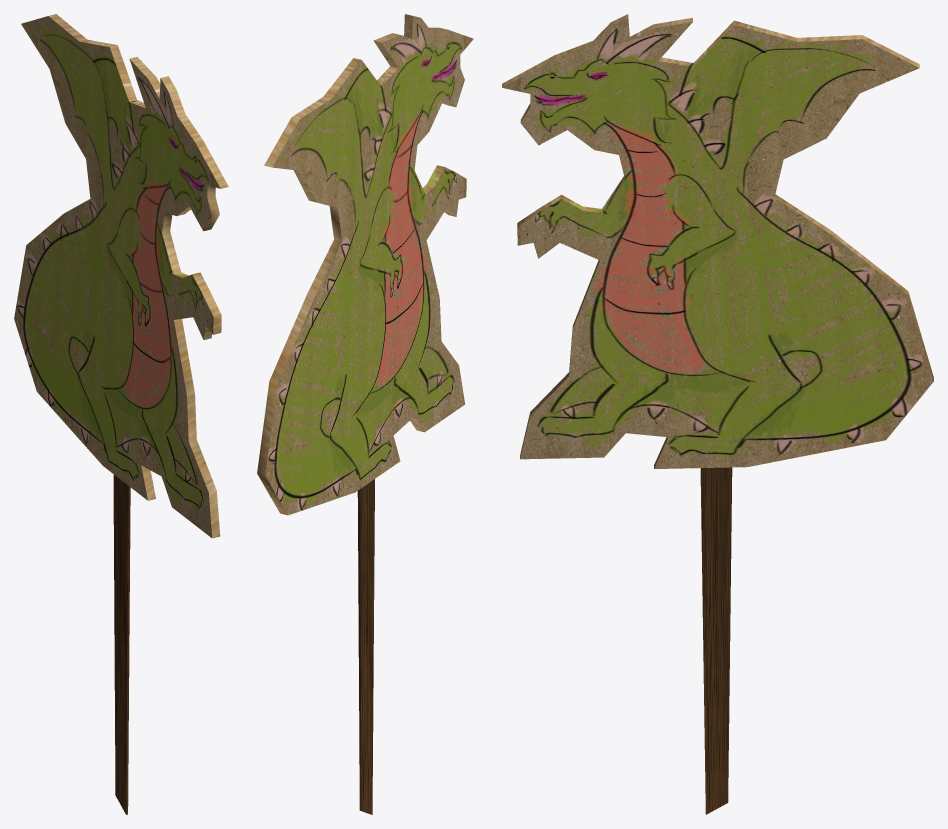
The model's file is Lighter green dragon.fbx.
The picture shows the model from 3 angles, left to right: view 1: azimuth 30°, elevation 25°; view 2: azimuth 150°, elevation 25°; view 3: azimuth 270°, elevation 25°; orthographic projection. The views are drawn at different scales.
Parts seen in each view (by area): view 1: dragonding, stokje; view 2: dragonding, stokje; view 3: dragonding, stokje.
Part boxes in pixels (x1,y1,x2,y2): dragonding: (14,14,228,538); stokje: (113,474,130,814); dragonding: (257,14,473,515); stokje: (357,479,374,814); dragonding: (502,14,933,468); stokje: (700,467,732,814).
Bounding box in the file's own units: 22.18 × 1717 × 841.
Materials: 2 (2 with a texture image).
